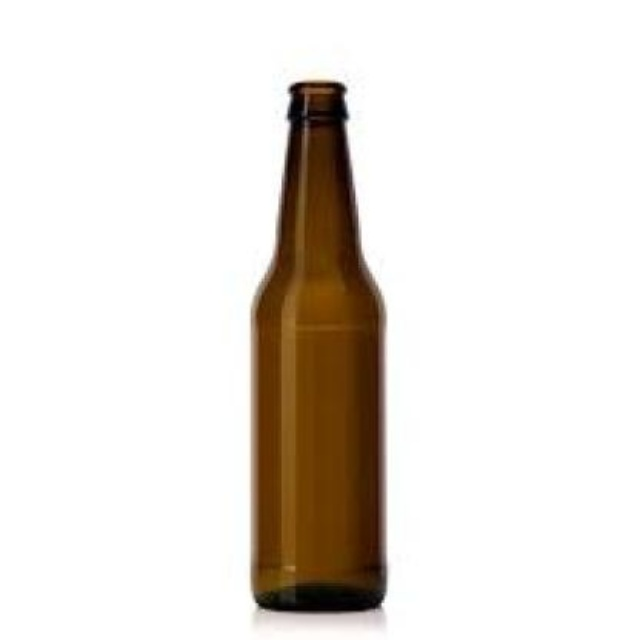trash: (252, 82, 385, 609)
